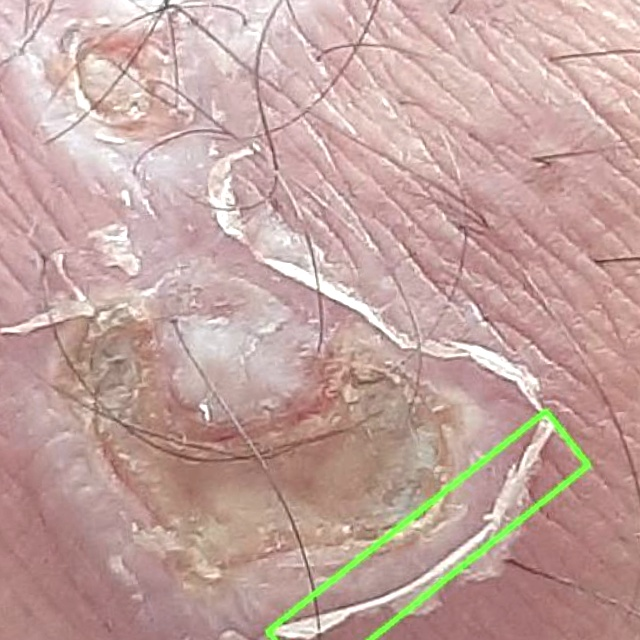Contact Dermatitis: (269, 411, 589, 639)
